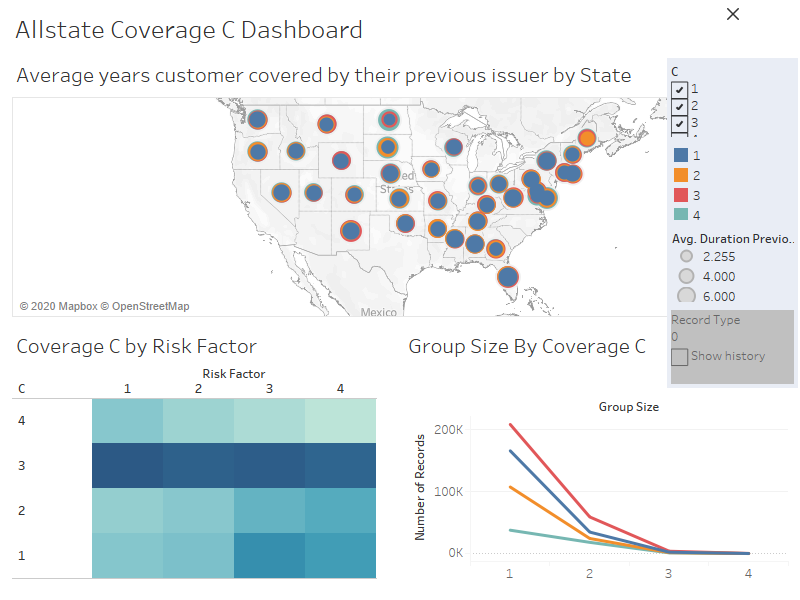

Layout of this report page (visuals, bound fields, positions):
{"tool":"tableau","page":{"name":"Dashboard 2 (3)","canvas":[800,600],"ordinal":2},"visuals":[{"type":"dashboard-object","box":[724,5,19,18]},{"type":"title","box":[8,8,784,42]},{"type":"filter","title":"state","param":"[federated.1trfkka18anlmg1dfjkcr01tjymx].[none:C:ok]","box":[667,28,131,82.7]},{"type":"worksheet","title":"state","mark":"Automatic","box":[8,50,784,271]},{"type":"legend","title":"state","param":"[federated.1trfkka18anlmg1dfjkcr01tjymx].[none:C:ok]","box":[667,110.7,131,82.7]},{"type":"legend","title":"state","param":"[federated.1trfkka18anlmg1dfjkcr01tjymx].[avg:duration_previous:qk]","box":[667,193.3,131,82.7]},{"type":"currpage","title":"state","box":[667,276,131,110]},{"type":"worksheet","title":"c by risk","mark":"Automatic","rows":["C"],"cols":["risk_factor"],"box":[8,321,392,271]},{"type":"worksheet","title":"groupsize","mark":"Line","rows":["Number of Records"],"cols":["group_size"],"box":[400,321,392,271]}]}

Visuals, with their boxes in screenshot pixels (x1, y1, x2, y2), scaled from the page's 800x600 canvas onto the 800x600 screenshot:
dashboard-object: 724 5 743 23
title: 8 8 792 50
"state" filter: 667 28 798 111
"state" worksheet: 8 50 792 321
"state" legend: 667 111 798 193
"state" legend: 667 193 798 276
"state" currpage: 667 276 798 386
"c by risk" worksheet: 8 321 400 592
"groupsize" worksheet (Line marks): 400 321 792 592
